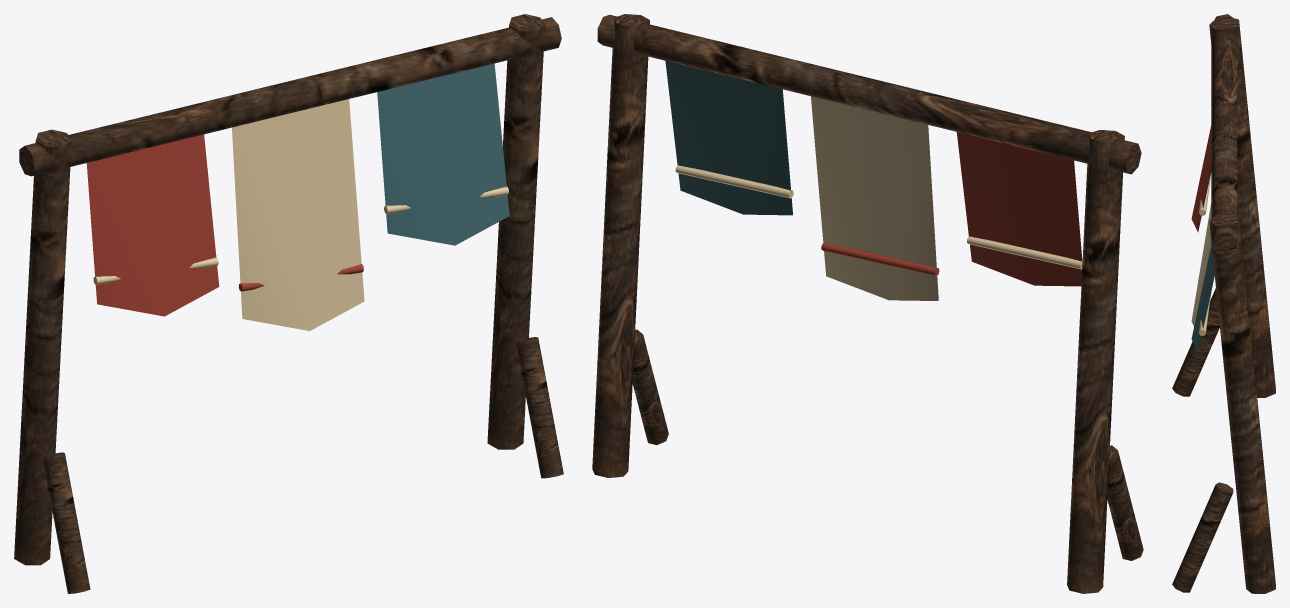
File: clothRack.glb
3 views of the same model, side by side, from view 1: azimuth 30°, elevation 25°; view 2: azimuth 150°, elevation 25°; view 3: azimuth 270°, elevation 25° (orthographic). The views are drawn at different scales.
Visible parts, largest first — view 1: part_0, part_2, part_1, part_3; view 2: part_0, part_2, part_1, part_3; view 3: part_0, part_2, part_3, part_1.
Part boxes in pixels (x1,y1,x2,y2): part_0: (14, 14, 563, 593); part_2: (93, 99, 508, 330); part_1: (86, 134, 363, 316); part_3: (377, 63, 509, 245); part_0: (592, 14, 1143, 593); part_2: (675, 96, 1082, 300); part_1: (821, 132, 1082, 286); part_3: (665, 61, 792, 215); part_0: (1172, 14, 1275, 593); part_2: (1191, 172, 1211, 335); part_3: (1191, 245, 1214, 352); part_1: (1191, 125, 1211, 232).
Size of the model in its own units: 1.54 by 1.23 by 0.3101.
4 materials, 1 textured.
